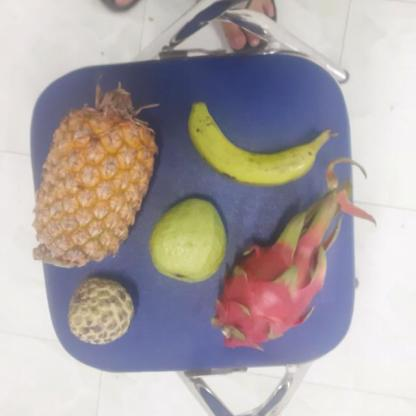annona: (67, 279, 137, 344)
banana: (191, 108, 330, 186)
guava: (149, 198, 231, 283)
pineapple: (36, 106, 157, 266)
pitaya: (216, 238, 328, 348)
